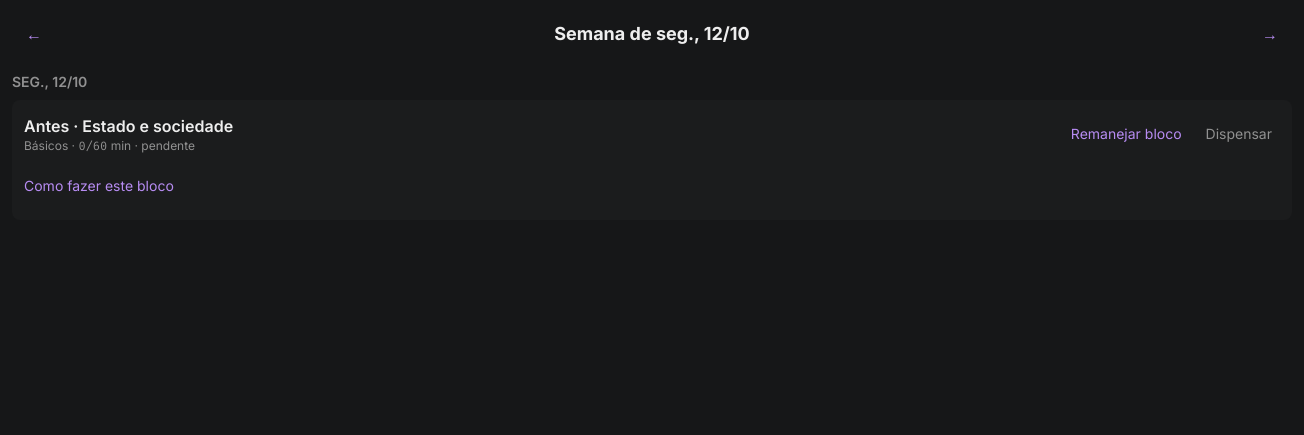
Test: remanejamento › recarrega a semana e mantém o rascunho quando o bloco foi alterado em outro lugar
This screenshot has width=1304, height=435.
Step 1. Click the button "Remanejar bloco" → [1126, 134], box [1063,112,1190,156]
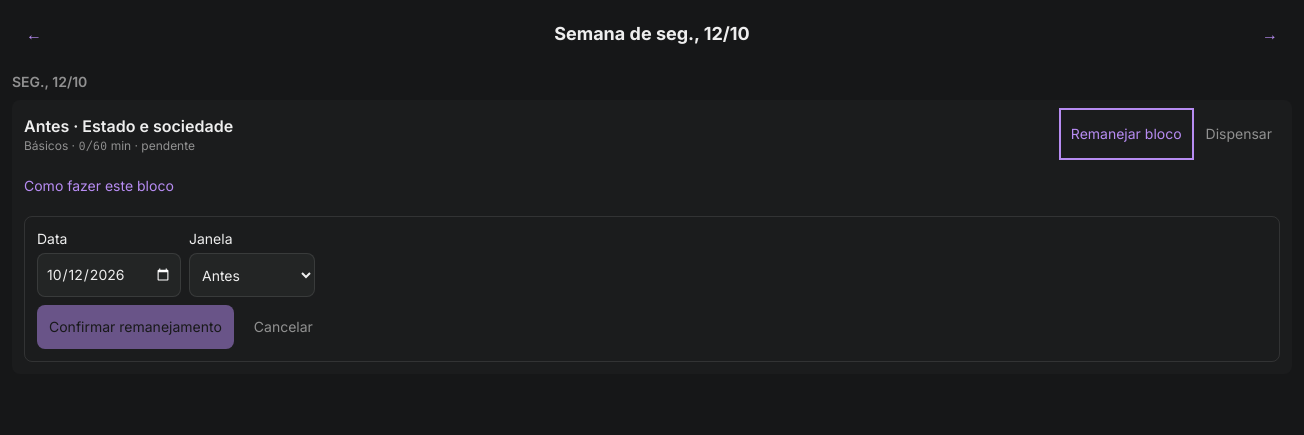
Step 2. Type "2026-10-14" into the date field labelled "Data" → [109, 275], box [37,253,181,297]
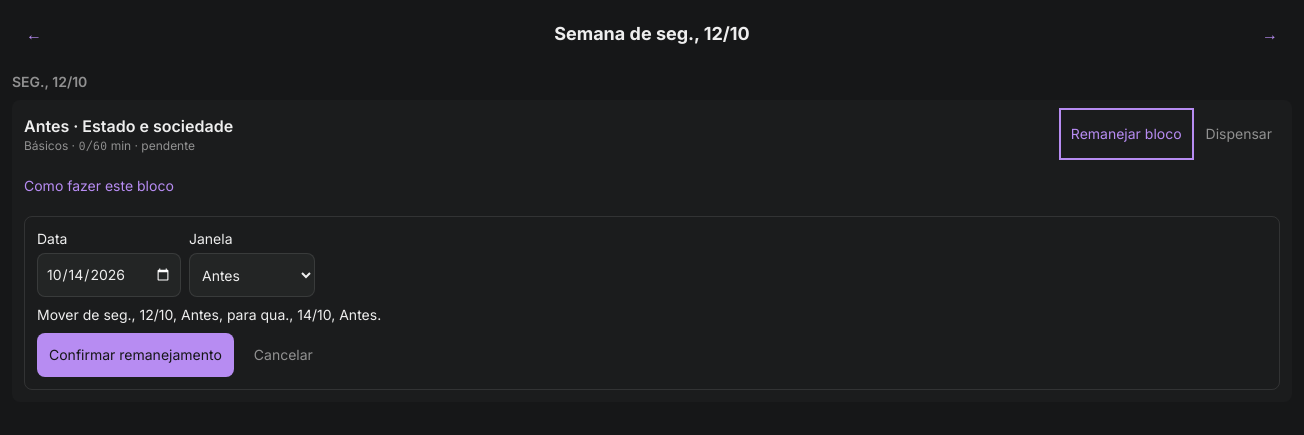
Step 3. Select "Depois" in the dropdown labelled "Janela" → [252, 275], box [189,253,315,297]
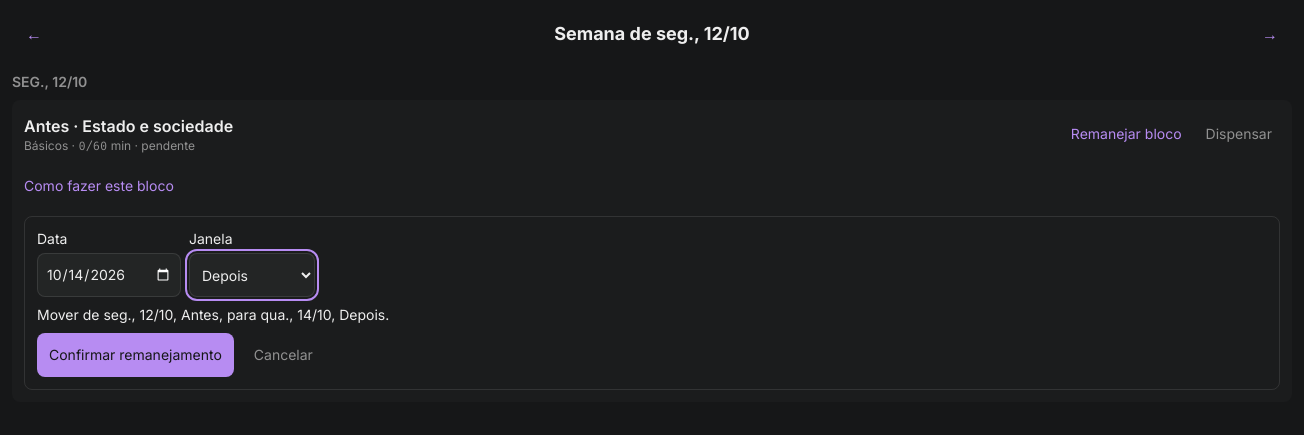
Step 4. Click the button "Confirmar remanejamento" → [135, 355], box [37,333,234,377]
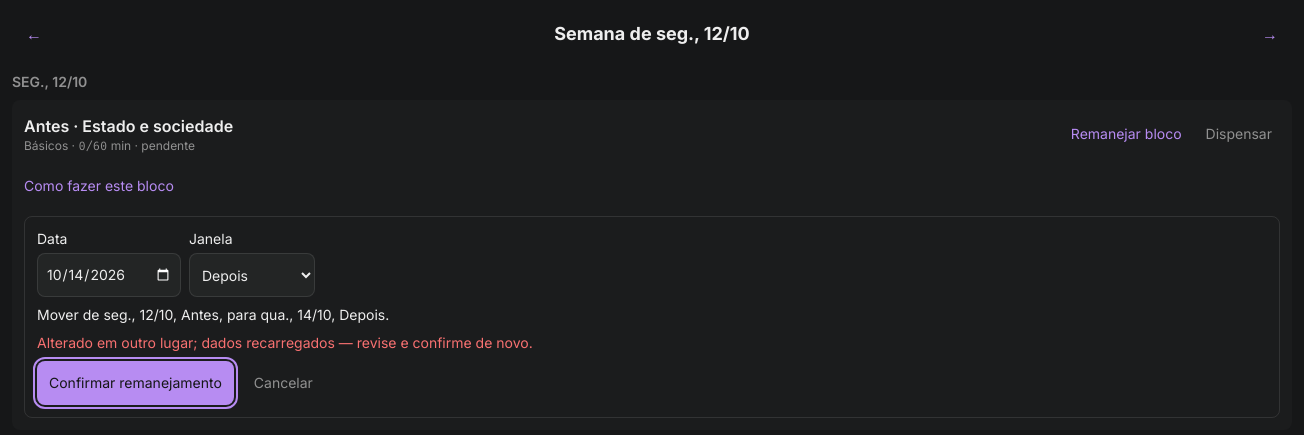
Check: the message shows "Alterado em outro lugar", box [37,334,533,351]
